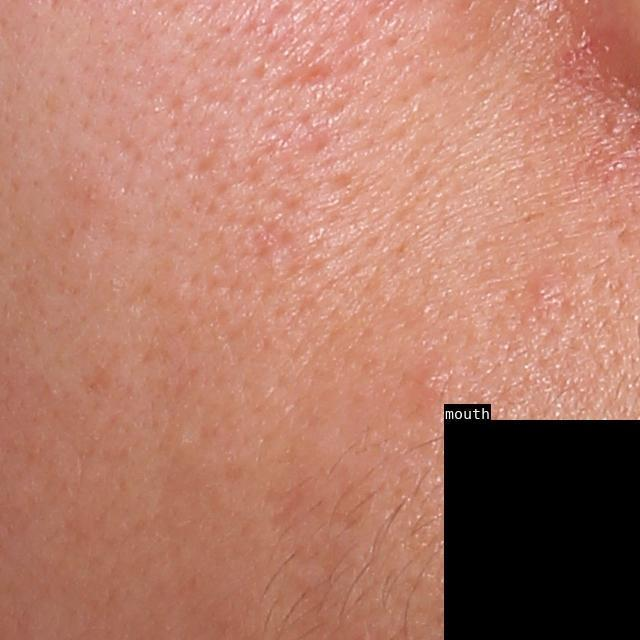atrophic_scar: (275, 61, 332, 92)
